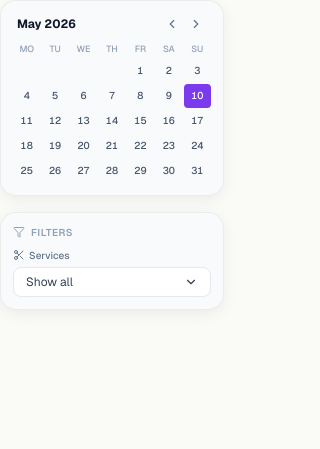
Test: CalendarLeftRail › Service filter dropdown › rendered label includes the count suffix when count > 0
This screenshot has width=320, height=449.
What coordinates should you click on to do the following:
click the button with test id "rail-service-filter-trigger"
I would click on:
 (112, 282)
Its box is 13,266 -> 211,296.
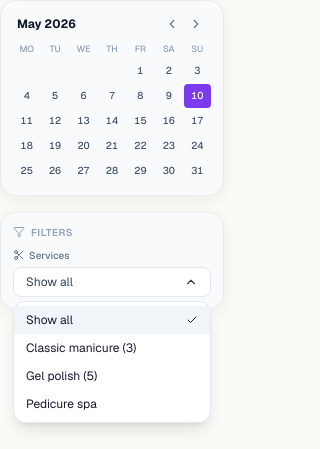
Result: the option with test id "rail-service-filter-option-gel_polish" shows "Gel polish" at 26,368 -> 97,384
Result: the option with test id "rail-service-filter-option-gel_polish" shows "(5)" at 26,368 -> 97,384
